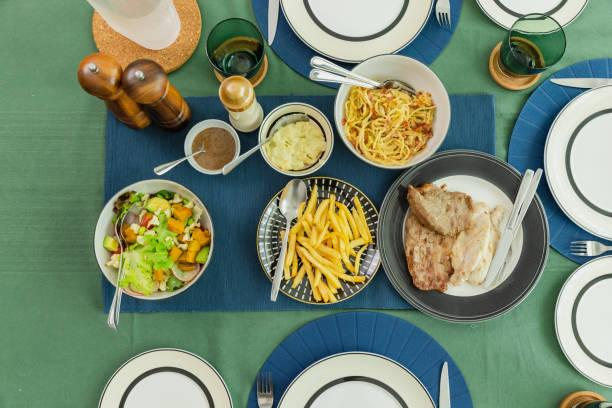Braised Crucian Carp: (375, 150, 550, 329), (256, 176, 381, 305), (93, 179, 213, 301), (335, 54, 451, 173)
